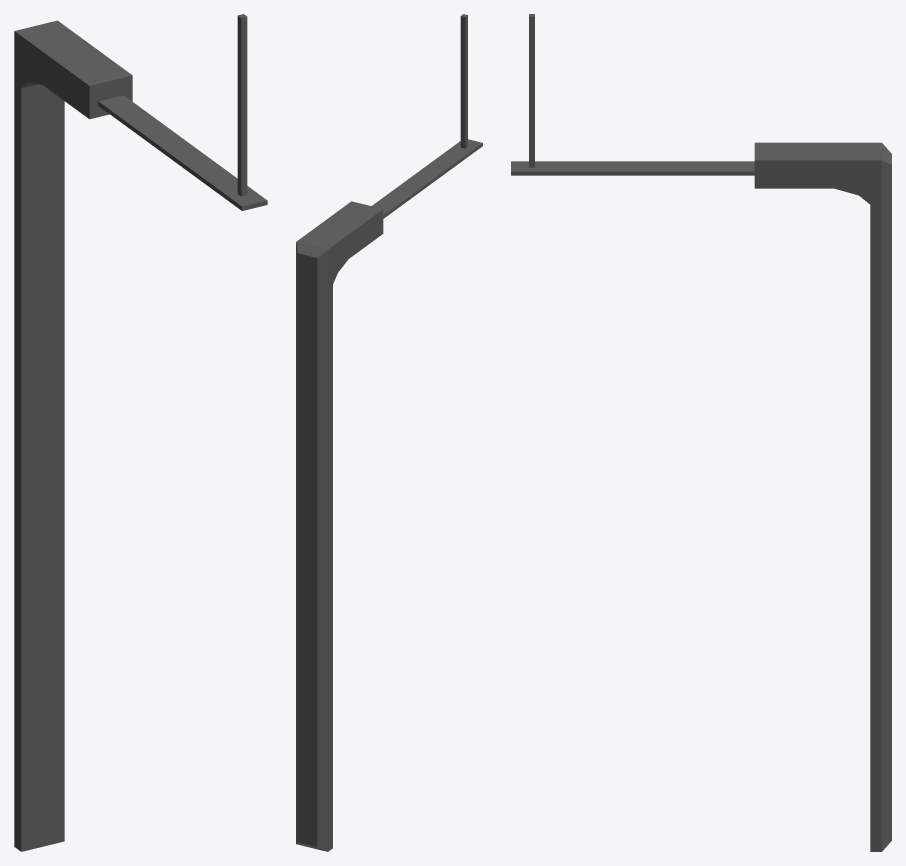
File: SM_garage_top_connector.fbx
The picture shows the model from 3 angles, left to right: view 1: azimuth 30°, elevation 25°; view 2: azimuth 150°, elevation 25°; view 3: azimuth 270°, elevation 25°; orthographic projection. The views are drawn at different scales.
Parts seen in each view (by area): view 1: garage_top_connector; view 2: garage_top_connector; view 3: garage_top_connector.
Part boxes in pixels (<box>): garage_top_connector: <box>14,14,267,851</box>; garage_top_connector: <box>296,14,482,851</box>; garage_top_connector: <box>511,14,891,851</box>.
Bounding box in the file's own units: 15.32 × 331 × 138.
